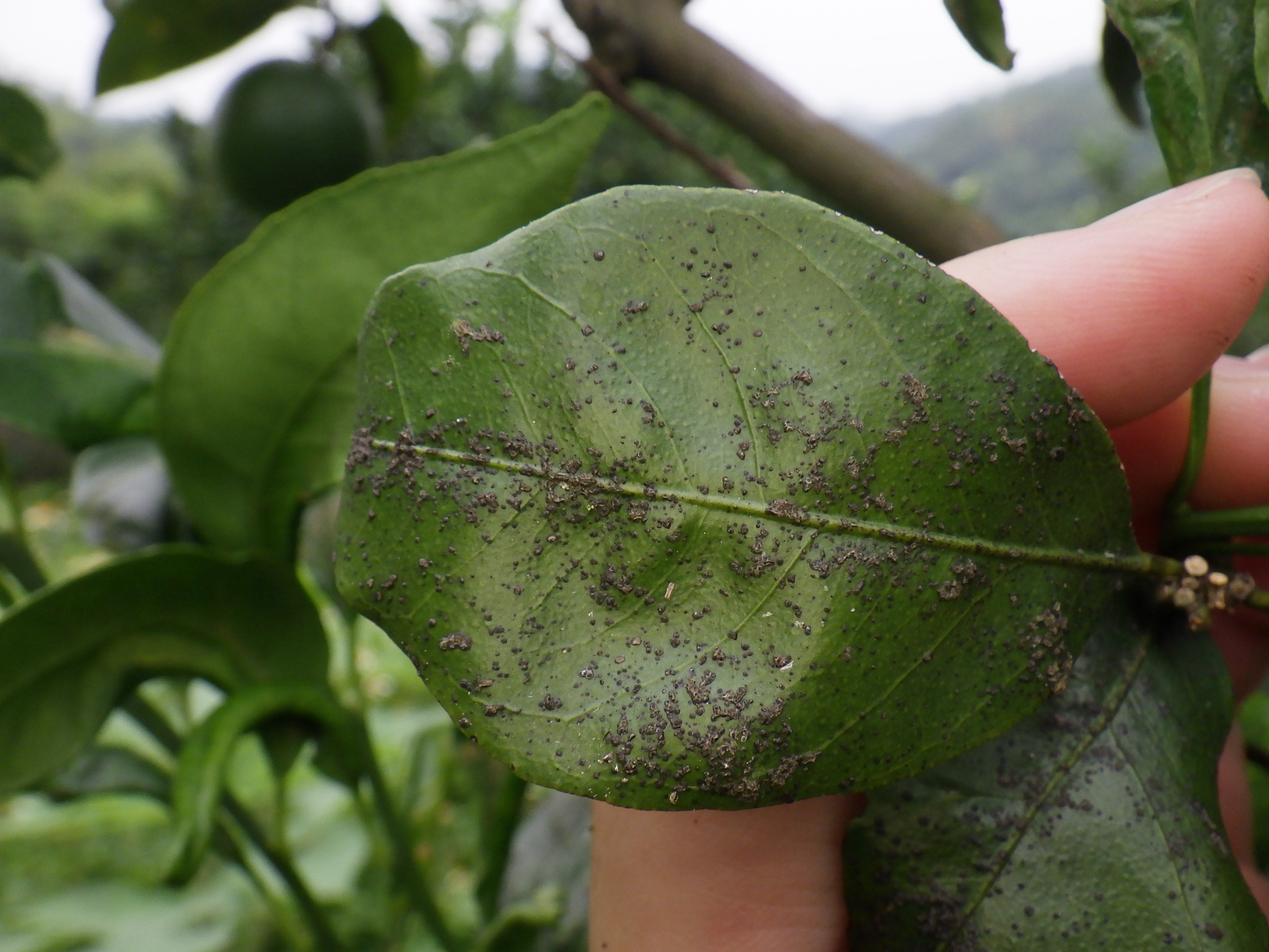Black_Spot: (332, 187, 1155, 809)
